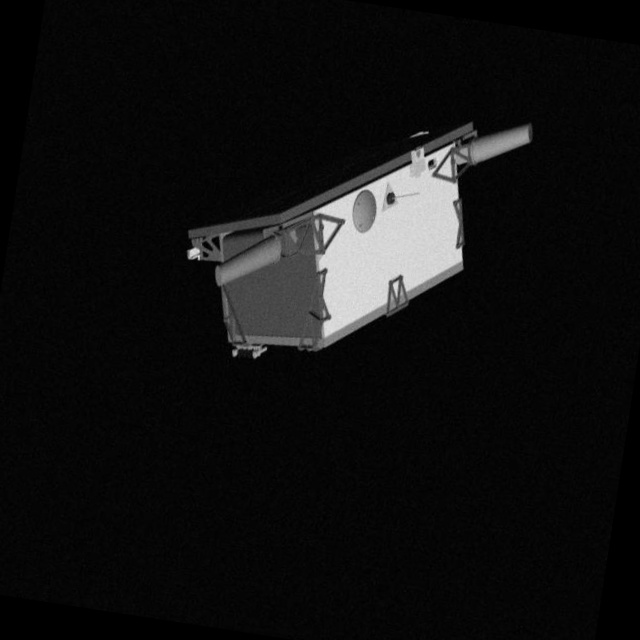medium_debris: (153, 66, 555, 408)
